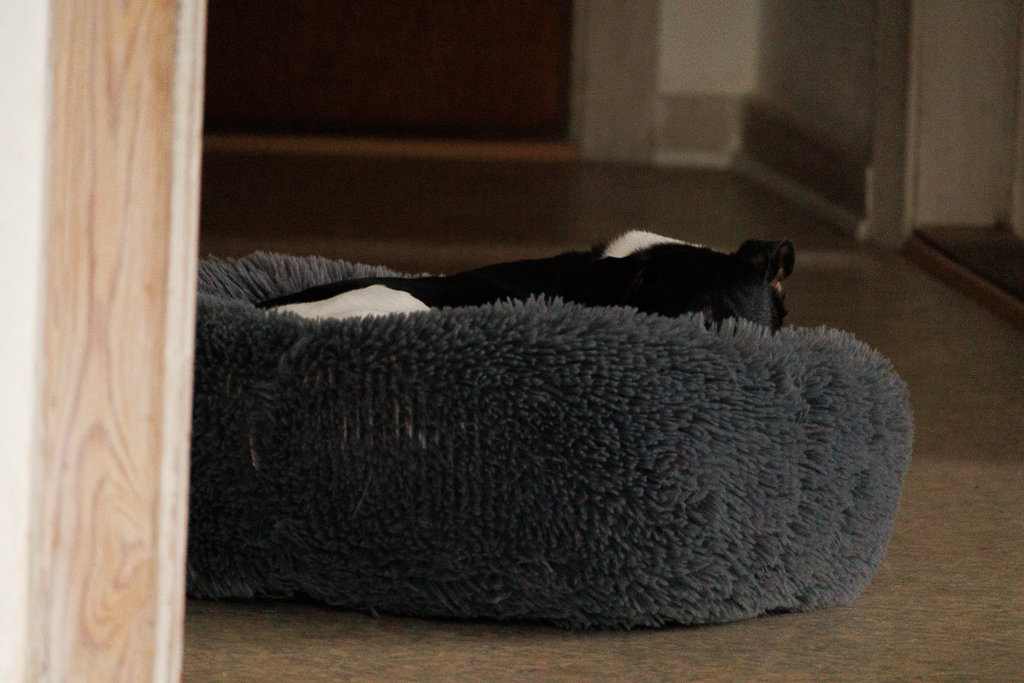Dog: (232, 222, 804, 341)
